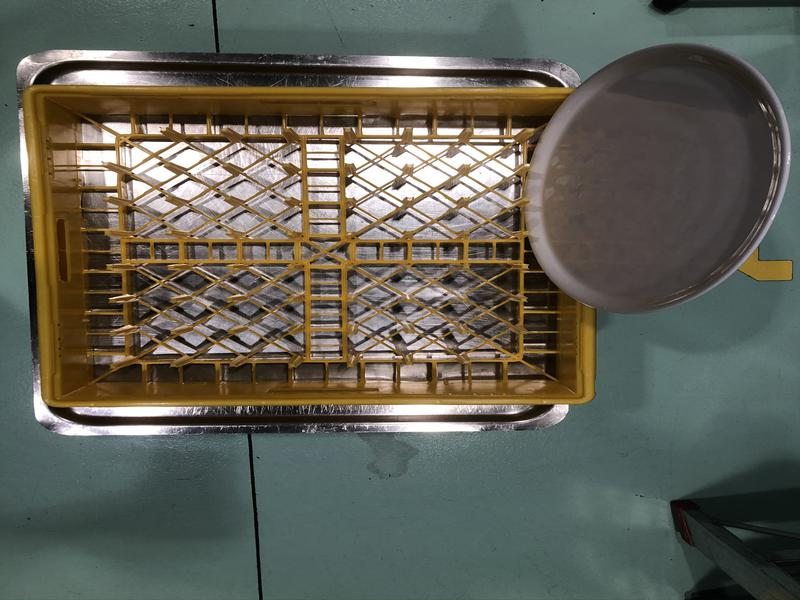Dish: (523, 44, 789, 312)
